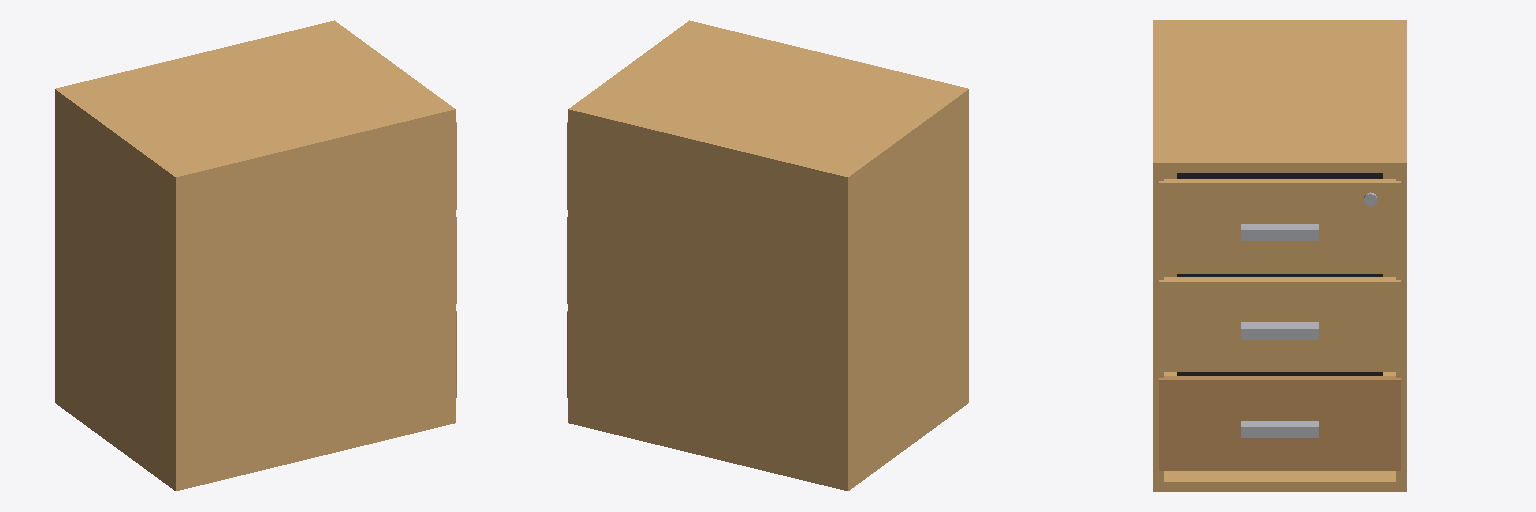
robot.urdf — office_pedestal:
<?xml version="1.0"?>
<robot name="office_pedestal">
  <!-- world to fix base -->
  <link name="world"/>
  <joint name="world_fixed" type="fixed">
    <parent link="world"/>
    <child link="base_link"/>
    <origin xyz="0 0 0" rpy="0 0 0"/>
  </joint>

  <!-- Cabinet carcass, origin at floor center under cabinet -->
  <link name="base_link">
    <inertial>
      <mass value="18.0"/>
      <origin xyz="0 0 0.30" rpy="0 0 0"/>
      <inertia ixx="1.5" ixy="0" ixz="0" iyy="1.5" iyz="0" izz="1.0"/>
    </inertial>
    <!-- bottom panel -->
    <visual>
      <origin xyz="0 0 0.009" rpy="0 0 0"/>
      <geometry>
        <box size="0.56 0.42 0.018"/>
      </geometry>
      <material name="beech">
        <color rgba="0.87 0.71 0.49 1"/>
      </material>
    </visual>
    <collision>
      <origin xyz="0 0 0.009" rpy="0 0 0"/>
      <geometry>
        <box size="0.56 0.42 0.018"/>
      </geometry>
    </collision>
    <!-- top panel -->
    <visual>
      <origin xyz="0 0 0.591" rpy="0 0 0"/>
      <geometry>
        <box size="0.56 0.42 0.018"/>
      </geometry>
      <material name="beech"/>
    </visual>
    <collision>
      <origin xyz="0 0 0.591" rpy="0 0 0"/>
      <geometry>
        <box size="0.56 0.42 0.018"/>
      </geometry>
    </collision>
    <!-- left side -->
    <visual>
      <origin xyz="0 0.201 0.30" rpy="0 0 0"/>
      <geometry>
        <box size="0.56 0.018 0.564"/>
      </geometry>
      <material name="beech"/>
    </visual>
    <collision>
      <origin xyz="0 0.201 0.30" rpy="0 0 0"/>
      <geometry>
        <box size="0.56 0.018 0.564"/>
      </geometry>
    </collision>
    <!-- right side -->
    <visual>
      <origin xyz="0 -0.201 0.30" rpy="0 0 0"/>
      <geometry>
        <box size="0.56 0.018 0.564"/>
      </geometry>
      <material name="beech"/>
    </visual>
    <collision>
      <origin xyz="0 -0.201 0.30" rpy="0 0 0"/>
      <geometry>
        <box size="0.56 0.018 0.564"/>
      </geometry>
    </collision>
    <!-- back panel -->
    <visual>
      <origin xyz="-0.271 0 0.30" rpy="0 0 0"/>
      <geometry>
        <box size="0.018 0.384 0.564"/>
      </geometry>
      <material name="beech"/>
    </visual>
    <collision>
      <origin xyz="-0.271 0 0.30" rpy="0 0 0"/>
      <geometry>
        <box size="0.018 0.384 0.564"/>
      </geometry>
    </collision>
  </link>

  <!-- BOTTOM DRAWER (opened first in video) -->
  <joint name="drawer_bottom_joint" type="prismatic">
    <parent link="base_link"/>
    <child link="drawer_bottom_link"/>
    <origin xyz="0 0 0.125" rpy="0 0 0"/>
    <axis xyz="1 0 0"/>
    <limit lower="0" upper="0.36" effort="100" velocity="1.0"/>
    <dynamics damping="5.0" friction="2.0"/>
  </joint>
  <link name="drawer_bottom_link">
    <inertial>
      <mass value="2.5"/>
      <origin xyz="0.04 0 0" rpy="0 0 0"/>
      <inertia ixx="0.05" ixy="0" ixz="0" iyy="0.08" iyz="0" izz="0.08"/>
    </inertial>
    <!-- front -->
    <visual>
      <origin xyz="0.28 0 0" rpy="0 0 0"/>
      <geometry>
        <box size="0.018 0.40 0.165"/>
      </geometry>
      <material name="beech">
        <color rgba="0.80 0.62 0.42 1"/>
      </material>
    </visual>
    <collision>
      <origin xyz="0.28 0 0" rpy="0 0 0"/>
      <geometry>
        <box size="0.018 0.40 0.165"/>
      </geometry>
    </collision>
    <!-- tub -->
    <visual>
      <origin xyz="0.041 0 -0.025" rpy="0 0 0"/>
      <geometry>
        <box size="0.46 0.34 0.10"/>
      </geometry>
      <material name="dark">
        <color rgba="0.15 0.15 0.17 1"/>
      </material>
    </visual>
    <collision>
      <origin xyz="0.041 0 -0.025" rpy="0 0 0"/>
      <geometry>
        <box size="0.46 0.34 0.10"/>
      </geometry>
    </collision>
    <!-- handle horizontal -->
    <visual>
      <origin xyz="0.305 0 0" rpy="0 0 0"/>
      <geometry>
        <box size="0.025 0.13 0.02"/>
      </geometry>
      <material name="metal">
        <color rgba="0.75 0.76 0.78 1"/>
      </material>
    </visual>
    <collision>
      <origin xyz="0.305 0 0" rpy="0 0 0"/>
      <geometry>
        <box size="0.025 0.13 0.02"/>
      </geometry>
    </collision>
  </link>

  <!-- MIDDLE DRAWER (opened second in video) -->
  <joint name="drawer_middle_joint" type="prismatic">
    <parent link="base_link"/>
    <child link="drawer_middle_link"/>
    <origin xyz="0 0 0.305" rpy="0 0 0"/>
    <axis xyz="1 0 0"/>
    <limit lower="0" upper="0.36" effort="100" velocity="1.0"/>
    <dynamics damping="5.0" friction="2.0"/>
  </joint>
  <link name="drawer_middle_link">
    <inertial>
      <mass value="2.5"/>
      <origin xyz="0.04 0 0" rpy="0 0 0"/>
      <inertia ixx="0.05" ixy="0" ixz="0" iyy="0.08" iyz="0" izz="0.08"/>
    </inertial>
    <visual>
      <origin xyz="0.28 0 0" rpy="0 0 0"/>
      <geometry>
        <box size="0.018 0.40 0.165"/>
      </geometry>
      <material name="beech"/>
    </visual>
    <collision>
      <origin xyz="0.28 0 0" rpy="0 0 0"/>
      <geometry>
        <box size="0.018 0.40 0.165"/>
      </geometry>
    </collision>
    <visual>
      <origin xyz="0.041 0 -0.025" rpy="0 0 0"/>
      <geometry>
        <box size="0.46 0.34 0.10"/>
      </geometry>
      <material name="dark"/>
    </visual>
    <collision>
      <origin xyz="0.041 0 -0.025" rpy="0 0 0"/>
      <geometry>
        <box size="0.46 0.34 0.10"/>
      </geometry>
    </collision>
    <visual>
      <origin xyz="0.305 0 0" rpy="0 0 0"/>
      <geometry>
        <box size="0.025 0.13 0.02"/>
      </geometry>
      <material name="metal"/>
    </visual>
    <collision>
      <origin xyz="0.305 0 0" rpy="0 0 0"/>
      <geometry>
        <box size="0.025 0.13 0.02"/>
      </geometry>
    </collision>
  </link>

  <!-- TOP DRAWER with lock -->
  <joint name="drawer_top_joint" type="prismatic">
    <parent link="base_link"/>
    <child link="drawer_top_link"/>
    <origin xyz="0 0 0.485" rpy="0 0 0"/>
    <axis xyz="1 0 0"/>
    <limit lower="0" upper="0.36" effort="100" velocity="1.0"/>
    <dynamics damping="5.0" friction="2.0"/>
  </joint>
  <link name="drawer_top_link">
    <inertial>
      <mass value="2.5"/>
      <origin xyz="0.04 0 0" rpy="0 0 0"/>
      <inertia ixx="0.05" ixy="0" ixz="0" iyy="0.08" iyz="0" izz="0.08"/>
    </inertial>
    <visual>
      <origin xyz="0.28 0 0" rpy="0 0 0"/>
      <geometry>
        <box size="0.018 0.40 0.165"/>
      </geometry>
      <material name="beech"/>
    </visual>
    <collision>
      <origin xyz="0.28 0 0" rpy="0 0 0"/>
      <geometry>
        <box size="0.018 0.40 0.165"/>
      </geometry>
    </collision>
    <visual>
      <origin xyz="0.041 0 -0.025" rpy="0 0 0"/>
      <geometry>
        <box size="0.46 0.34 0.10"/>
      </geometry>
      <material name="dark"/>
    </visual>
    <collision>
      <origin xyz="0.041 0 -0.025" rpy="0 0 0"/>
      <geometry>
        <box size="0.46 0.34 0.10"/>
      </geometry>
    </collision>
    <visual>
      <origin xyz="0.305 0 0" rpy="0 0 0"/>
      <geometry>
        <box size="0.025 0.13 0.02"/>
      </geometry>
      <material name="metal"/>
    </visual>
    <collision>
      <origin xyz="0.305 0 0" rpy="0 0 0"/>
      <geometry>
        <box size="0.025 0.13 0.02"/>
      </geometry>
    </collision>
    <!-- lock cylinder on top drawer front -->
    <visual>
      <origin xyz="0.29 0.15 0.055" rpy="0 1.5708 0"/>
      <geometry>
        <cylinder radius="0.011" length="0.012"/>
      </geometry>
      <material name="metal"/>
    </visual>
    <collision>
      <origin xyz="0.29 0.15 0.055" rpy="0 1.5708 0"/>
      <geometry>
        <cylinder radius="0.011" length="0.012"/>
      </geometry>
    </collision>
  </link>
</robot>

--- Render facts (derived) ---
The picture shows the robot from 3 angles, left to right: view 1: azimuth 30°, elevation 25°; view 2: azimuth 150°, elevation 25°; view 3: azimuth 270°, elevation 25°; orthographic projection.
Model office_pedestal with 5 links and 4 joints (3 prismatic, 1 fixed), rooted at world, posed every joint at zero.
Links seen in each view (by area): view 1: base_link; view 2: base_link; view 3: base_link, drawer_top_link, drawer_bottom_link, drawer_middle_link.
Boxes of the visible links, x1,y1,x2,y2 form: base_link: [55, 20, 455, 490]; base_link: [568, 20, 968, 490]; base_link: [1153, 20, 1406, 491]; drawer_top_link: [1159, 173, 1400, 273]; drawer_bottom_link: [1159, 372, 1400, 470]; drawer_middle_link: [1159, 274, 1400, 371].
Bounding box of the posed robot: 0.5975 × 0.42 × 0.6 m (x, y, z).
Geometry: primitives only (box / cylinder / sphere), no mesh files.
